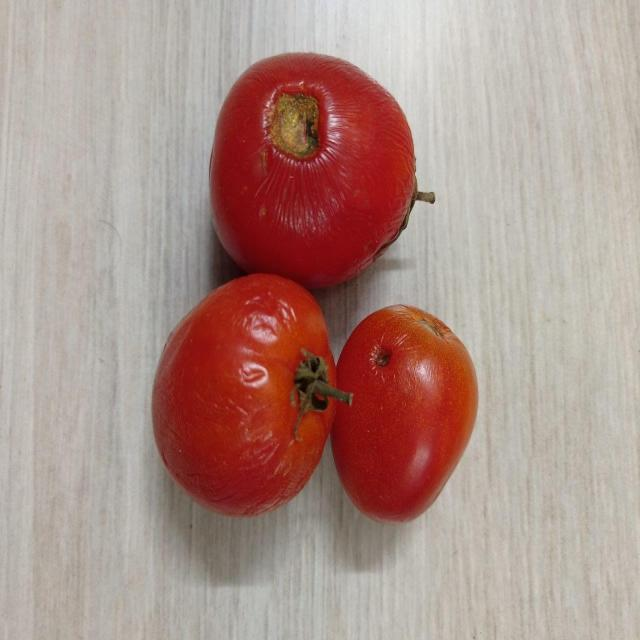Rotten: (209, 49, 417, 284)
